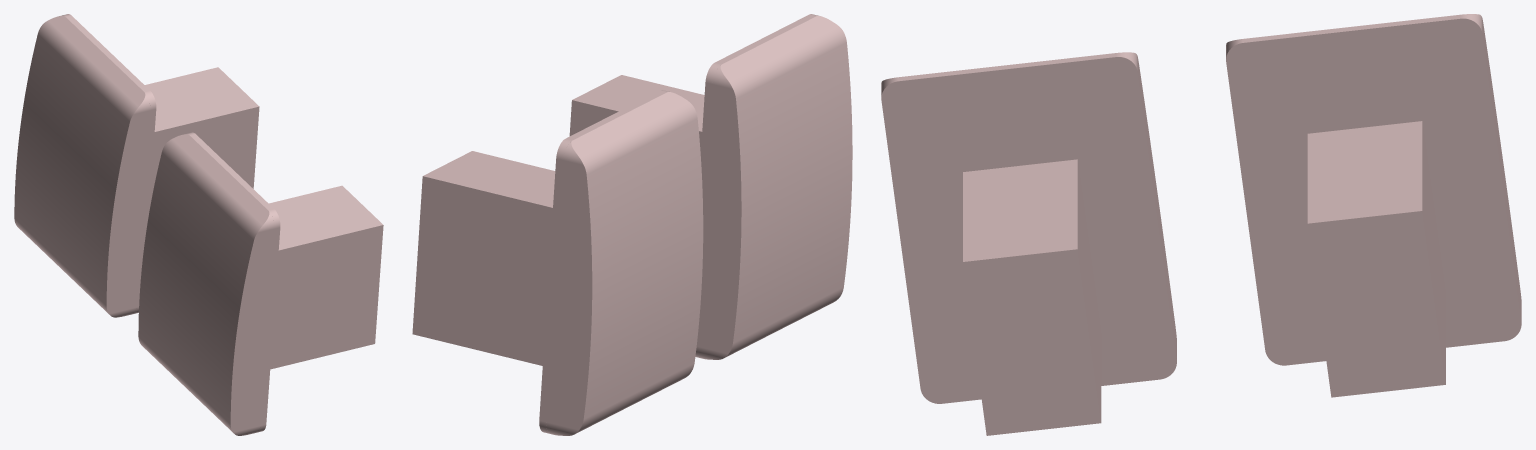
The model's file is POWER ARCHITECTURE__SMARTPLUG INLET SYSTEM__breakers.glb.
The picture shows the model from 3 angles, left to right: view 1: azimuth 30°, elevation 25°; view 2: azimuth 150°, elevation 25°; view 3: azimuth 270°, elevation 25°; orthographic projection. The views are drawn at different scales.
Visible parts, largest first — view 1: breakers; view 2: breakers; view 3: breakers.
Boxes of the visible parts, <box> form: breakers: <box>14,14,383,435</box>; breakers: <box>412,14,852,435</box>; breakers: <box>881,14,1521,435</box>.
Bounding box in the file's own units: 0.0901 × 0.14 × 0.2107.
